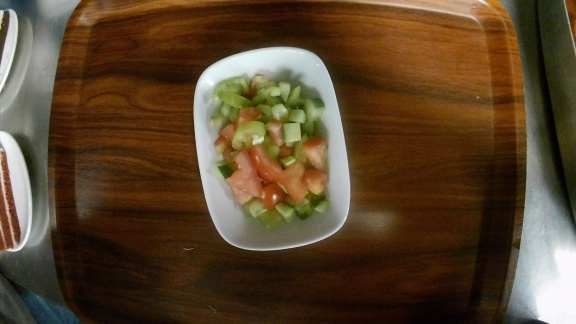cobansalata: (194, 46, 352, 251)
